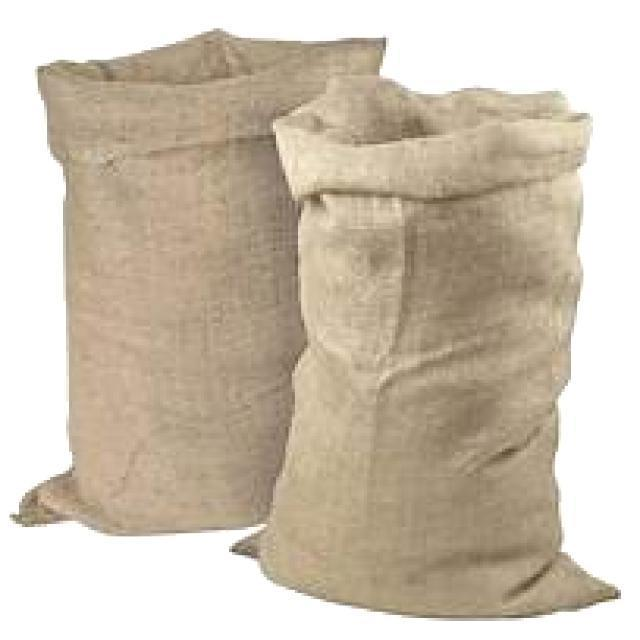gunny_bag: (229, 72, 631, 626), (9, 35, 381, 546)
